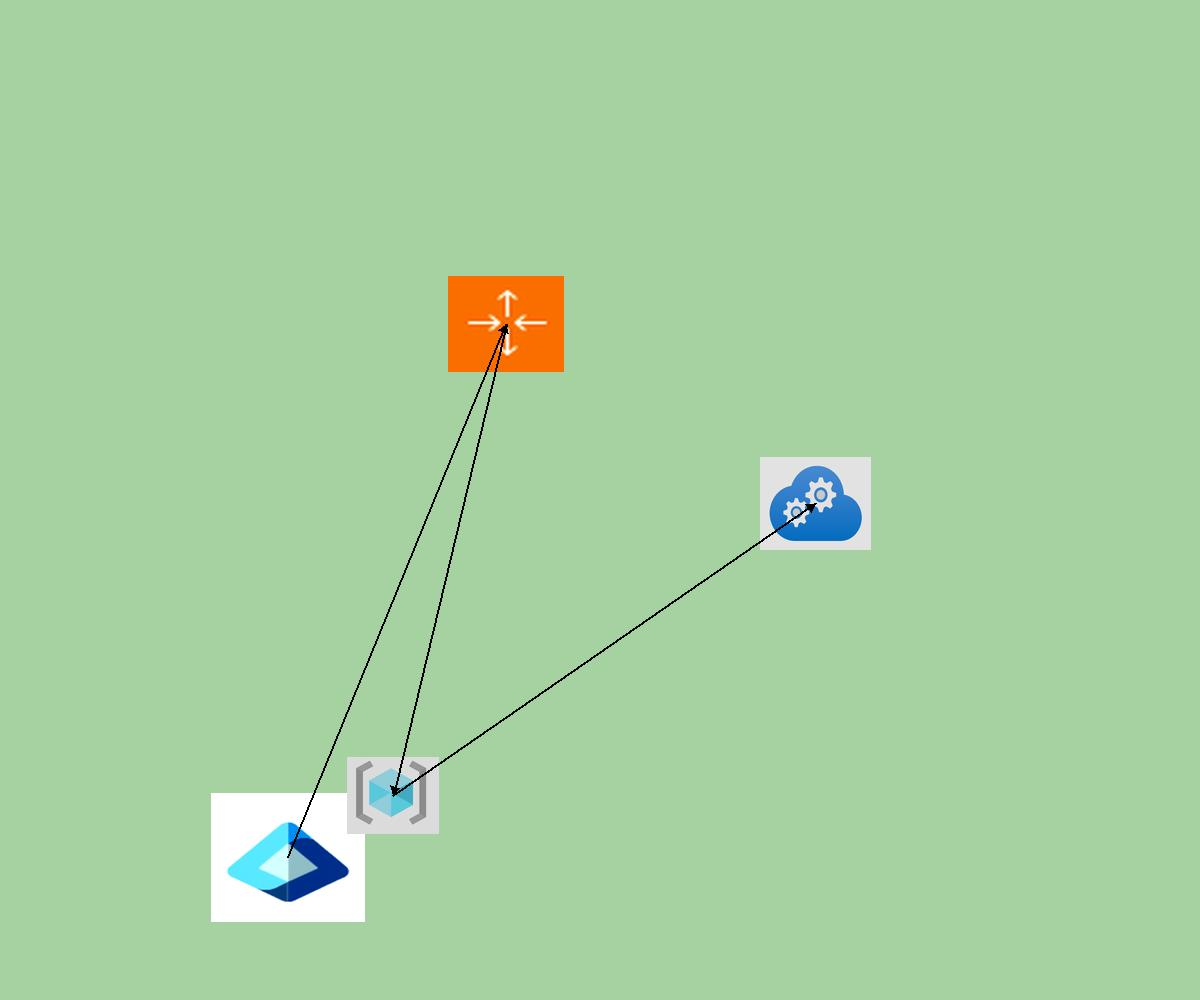AWS-Scaling-group: (448, 276, 564, 372)
Azure_cloud_services: (760, 457, 871, 550)
Azure_microsoft_entra: (211, 793, 365, 922)
Azure_resource_group: (347, 757, 439, 834)
